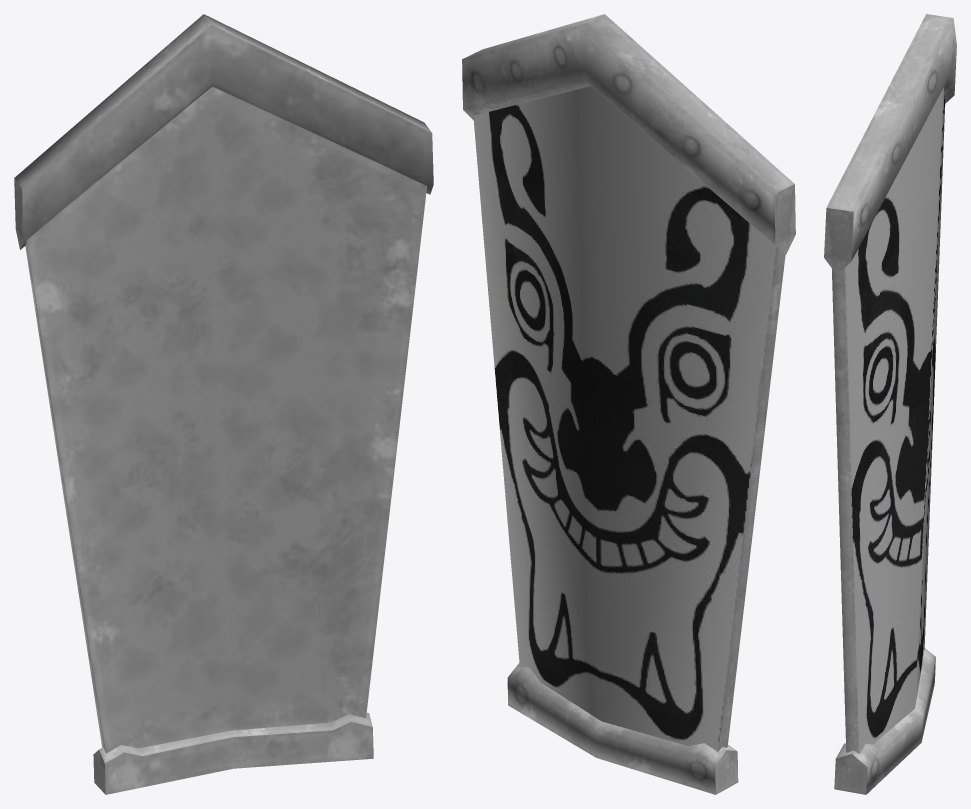
The model's file is shield-base.glb.
3 views of the same model, side by side, from view 1: azimuth 30°, elevation 25°; view 2: azimuth 150°, elevation 25°; view 3: azimuth 270°, elevation 25° (orthographic). The views are drawn at different scales.
Size of the model in its own units: 0.5815 by 1.12 by 0.186.
Materials: 1 (1 with a texture image).
